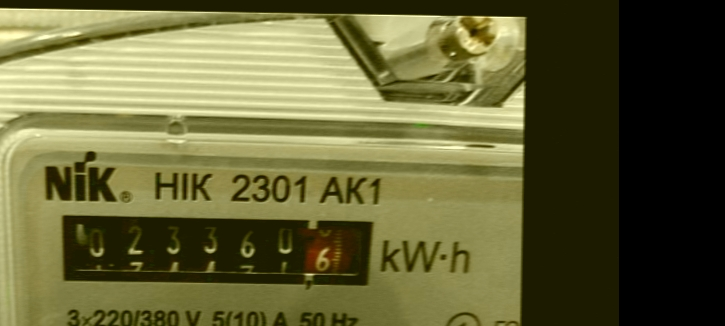0: (86, 224, 107, 257), (277, 223, 294, 254)
2: (124, 222, 147, 256)
3: (162, 222, 183, 255), (201, 222, 220, 253)
6: (237, 225, 257, 258), (312, 242, 333, 271)
screen: (43, 196, 387, 300)
